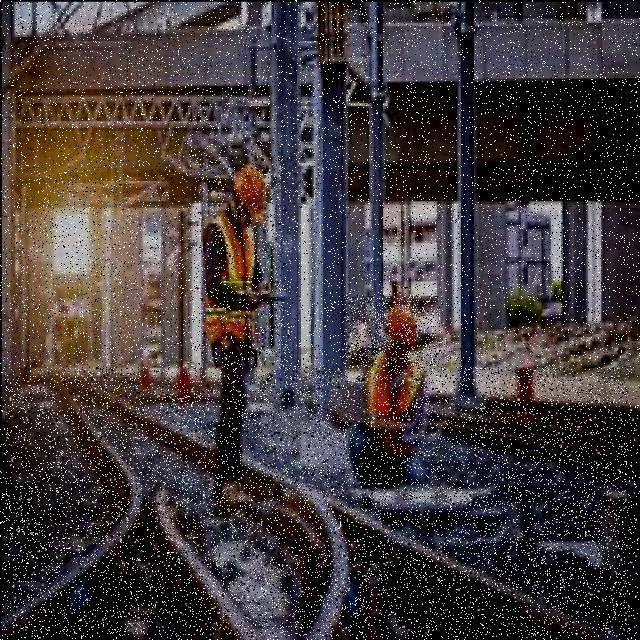rail: (5, 369, 632, 638)
